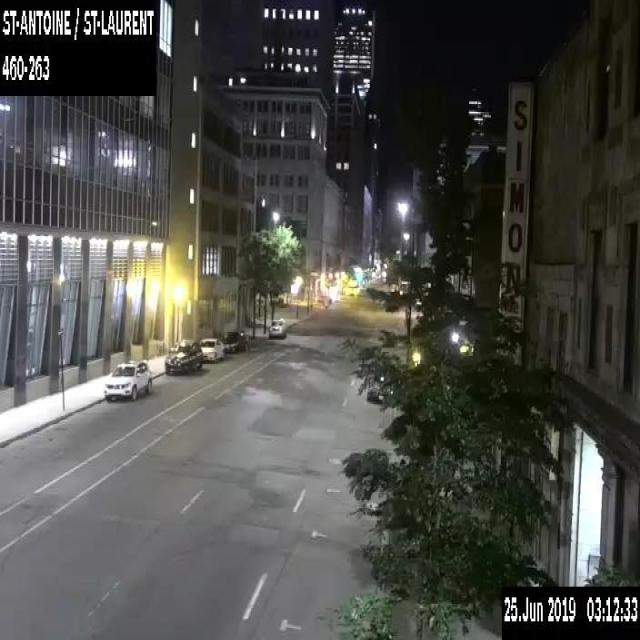vehicle: (103, 360, 152, 400), (164, 339, 203, 374), (367, 372, 393, 403), (198, 336, 224, 362), (221, 328, 247, 352), (268, 317, 286, 338)
